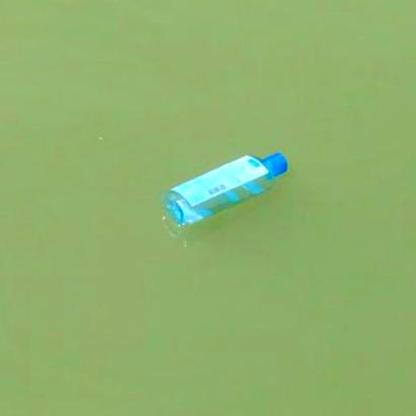plastic bottle: (163, 153, 288, 226)
